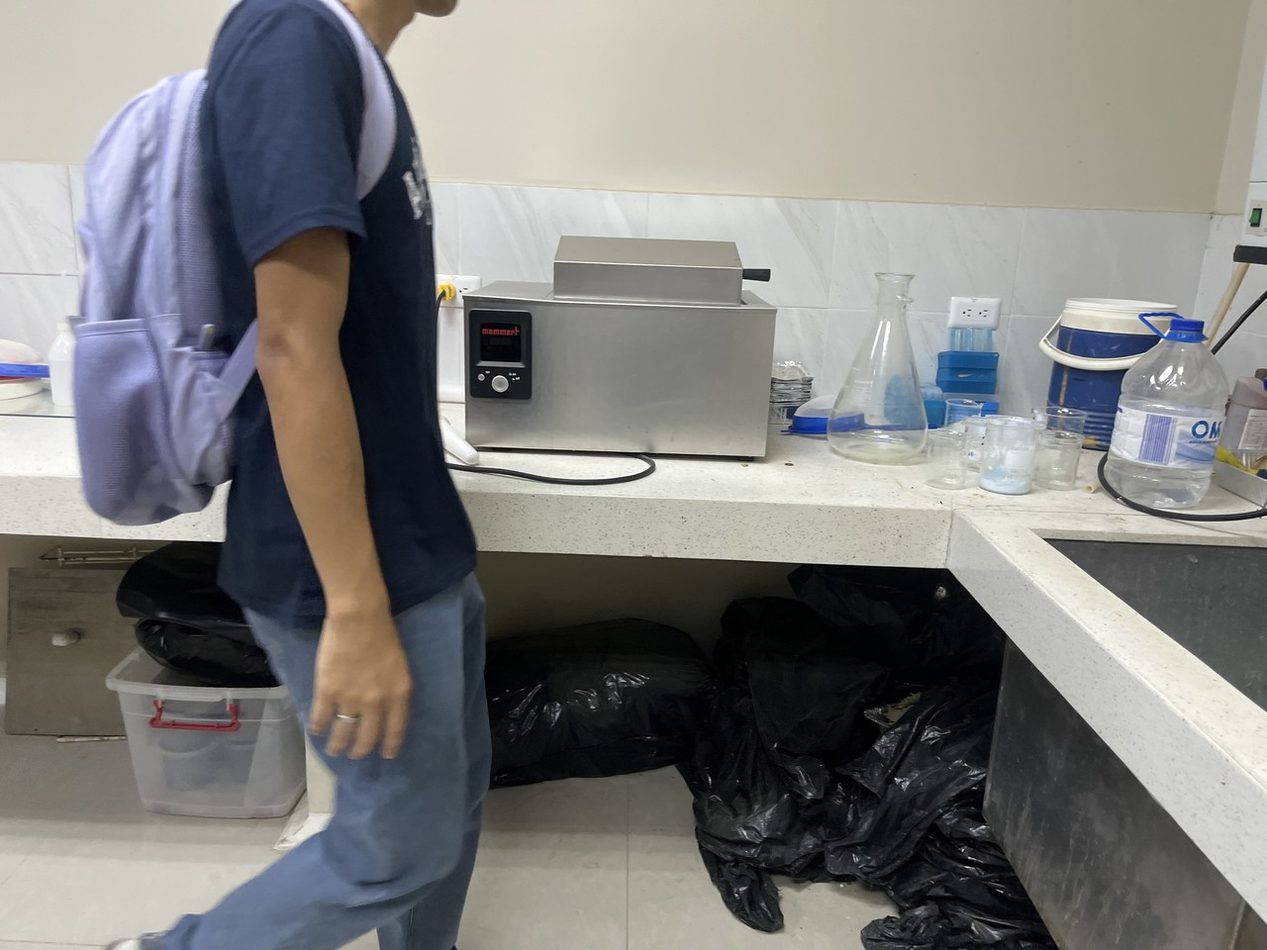memmert: (456, 226, 818, 456)
